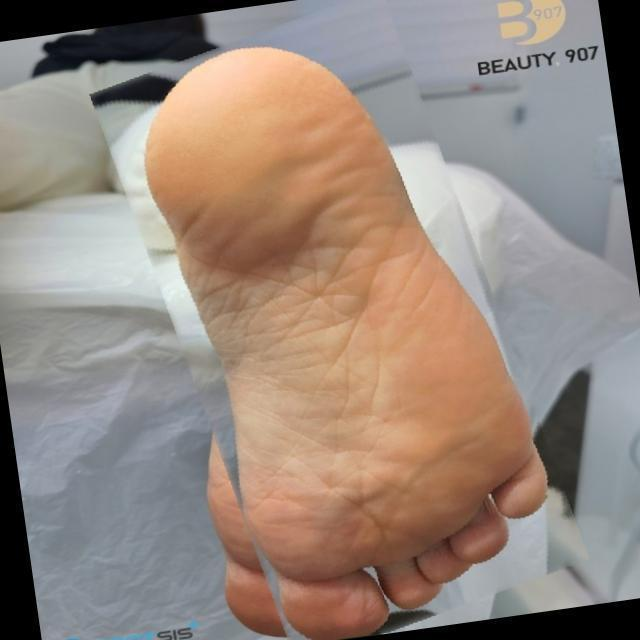No_Shoes: (112, 50, 562, 640)
